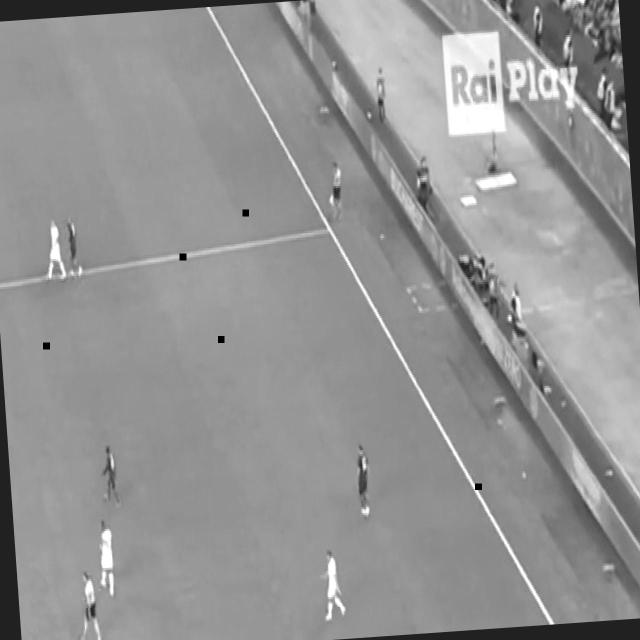ball: (365, 106, 373, 122)
player-white: (318, 545, 348, 626), (74, 568, 104, 640), (94, 514, 118, 600), (39, 217, 69, 285), (351, 437, 374, 519), (98, 440, 123, 513), (63, 208, 85, 282), (327, 159, 347, 223)
